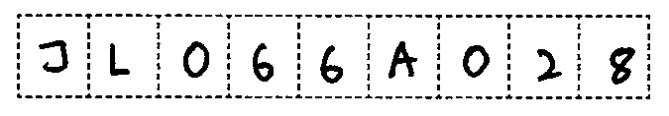0: (181, 37, 216, 82), (459, 40, 494, 82)
2: (526, 42, 570, 88)
6: (313, 42, 348, 90), (244, 40, 281, 85)
8: (602, 43, 642, 89)
A: (382, 37, 424, 87)
J: (35, 32, 77, 78)
L: (99, 40, 136, 84)
